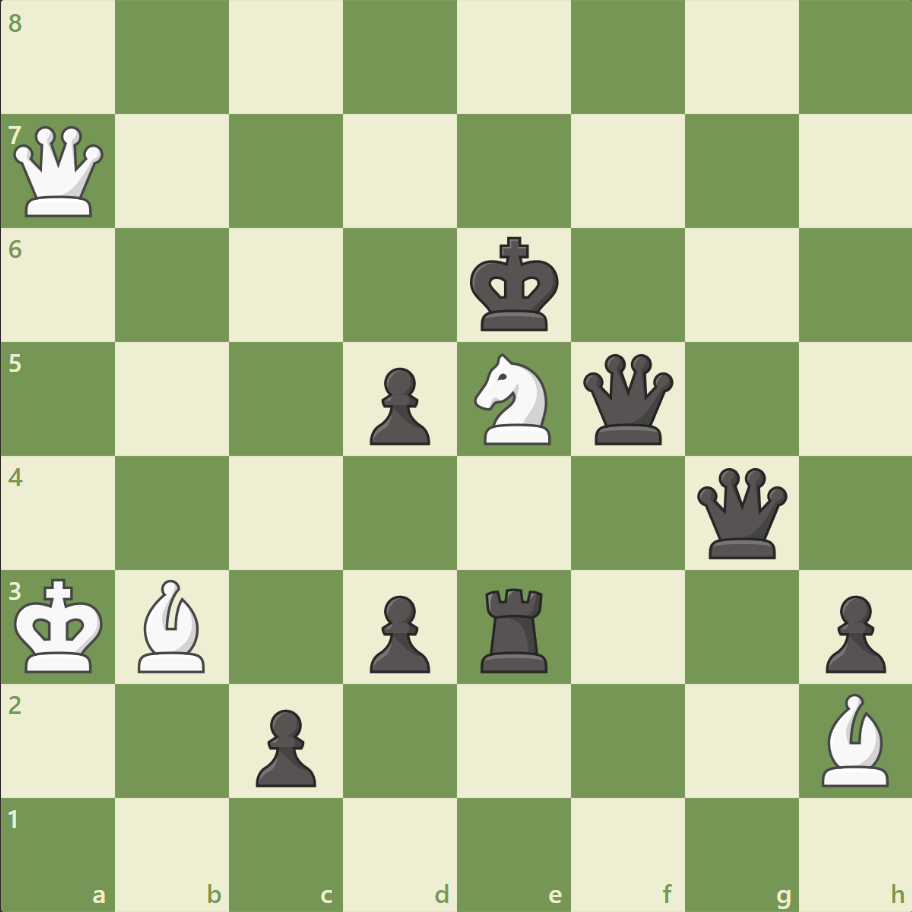B: (812, 687, 896, 790), (131, 574, 215, 676)
K: (11, 571, 111, 679)
N: (465, 348, 562, 450)
Q: (10, 122, 109, 222)
k: (465, 231, 565, 339)
p: (247, 700, 322, 791), (361, 359, 435, 450), (361, 586, 435, 677), (815, 586, 889, 677)
q: (578, 349, 677, 449), (691, 463, 790, 562)
r: (473, 579, 556, 676)
